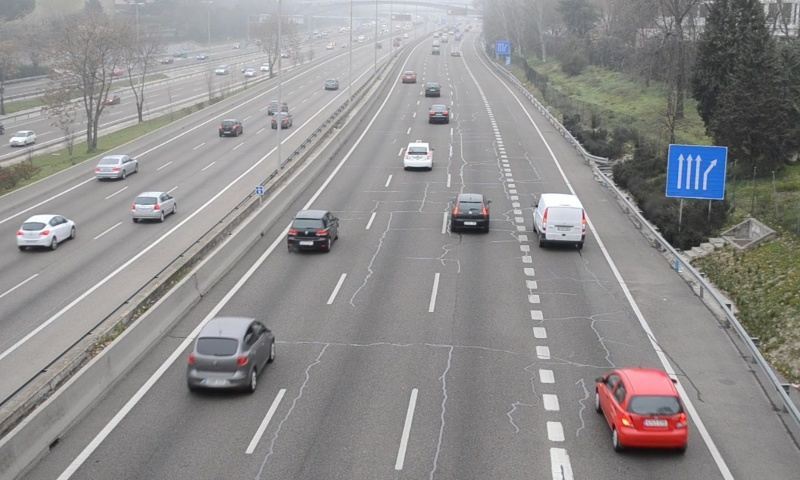car: (598, 367, 689, 450), (186, 317, 274, 393), (287, 208, 338, 252), (450, 192, 488, 232), (403, 142, 433, 170), (428, 103, 450, 124), (424, 80, 442, 96)
van: (536, 193, 585, 247)
